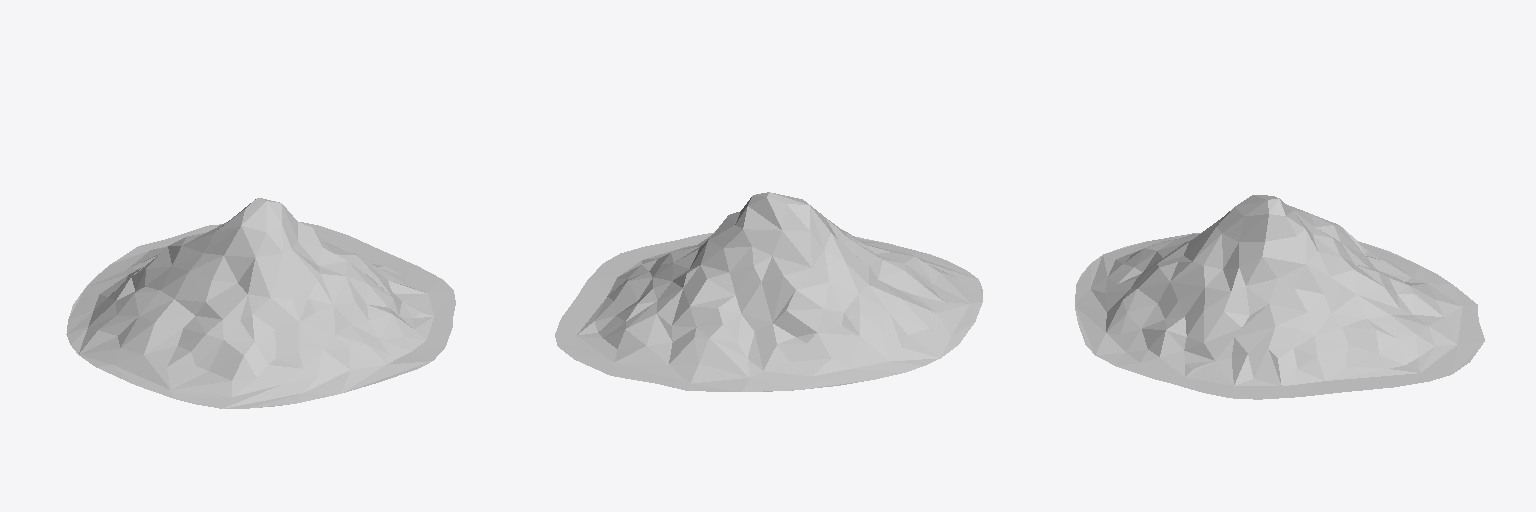
Rendered from chalk.obj.
3 views of the same model, side by side, from view 1: azimuth 30°, elevation 25°; view 2: azimuth 150°, elevation 25°; view 3: azimuth 270°, elevation 25° (orthographic).
Parts seen in each view (by area): view 1: sand.001_Plane.004; view 2: sand.001_Plane.004; view 3: sand.001_Plane.004.
Part boxes in pixels (bbox=[...]): sand.001_Plane.004: bbox=[66, 198, 455, 408]; sand.001_Plane.004: bbox=[555, 192, 982, 391]; sand.001_Plane.004: bbox=[1075, 195, 1484, 399].
Size of the model in its own units: 0.0923 by 0.0294 by 0.0936.